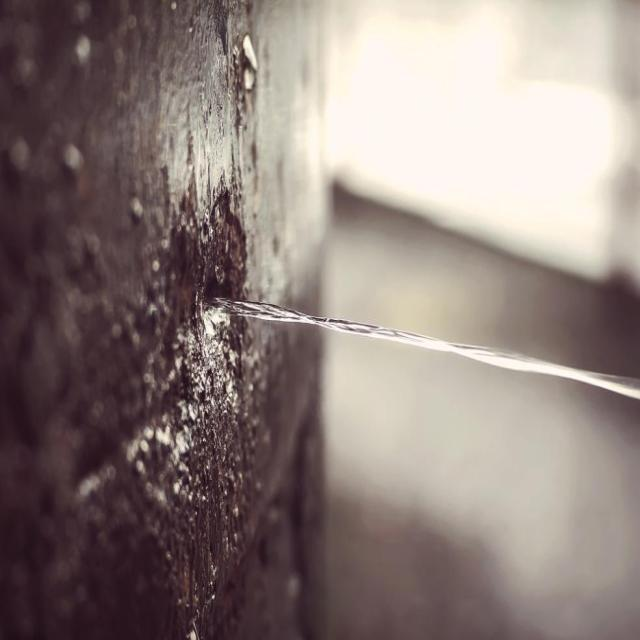leak: (208, 299, 640, 400)
